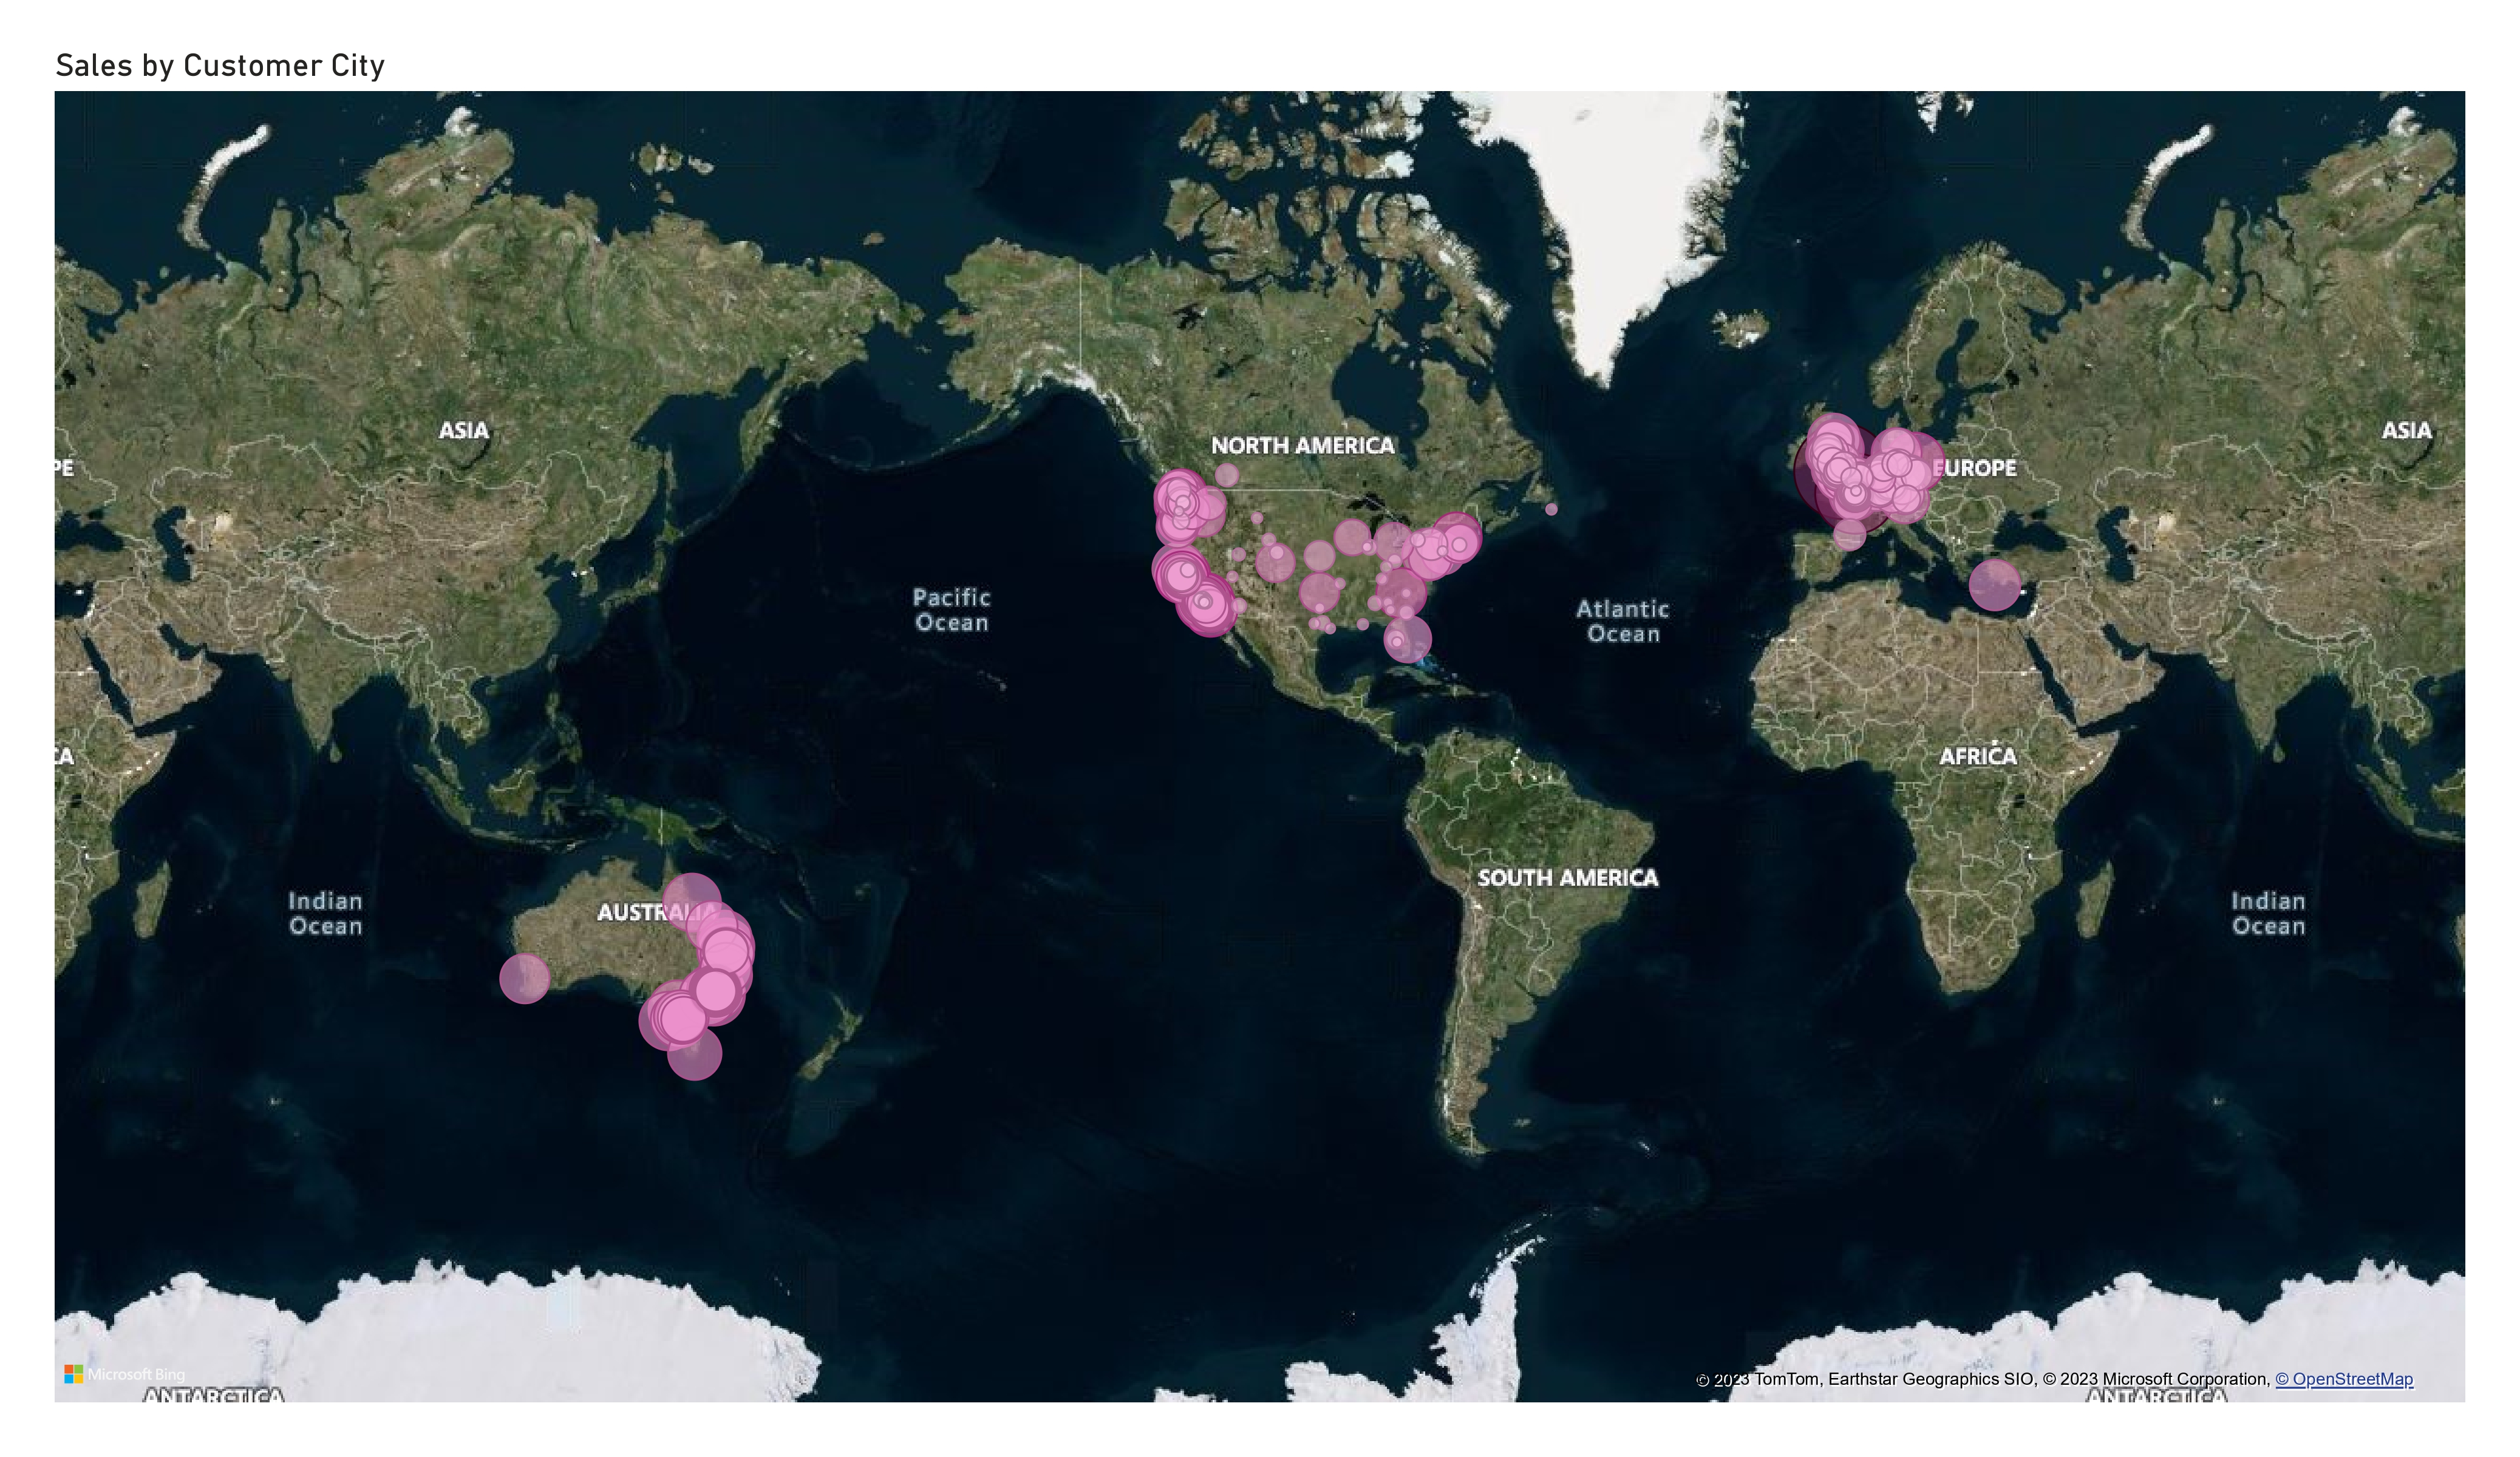

This screenshot's page, from the dashboard's own definition file:
{"tool":"powerbi","page":{"name":"Sales_Map","canvas":[1280,720],"ordinal":3},"visuals":[{"type":"map","fields":{"Category":["Customer.Customer City"],"Size":["Key Measures.Sales"]},"box":[0,0,1280,720],"z":0}]}

Visuals, with their boxes on the page's 1280x720 design canvas (x1, y1, x2, y2). These are canvas units, not pixel positions in the 2520x1457 screenshot, which may show the page scaled, cropped or inside an application window:
map - Customer.Customer City x Key Measures.Sales: (x1=0, y1=0, x2=1280, y2=720)
